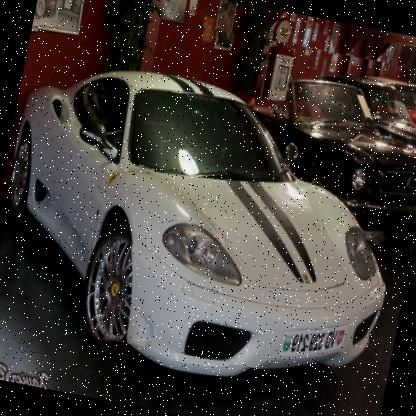Car: (0, 0, 415, 395), (33, 0, 61, 21)
